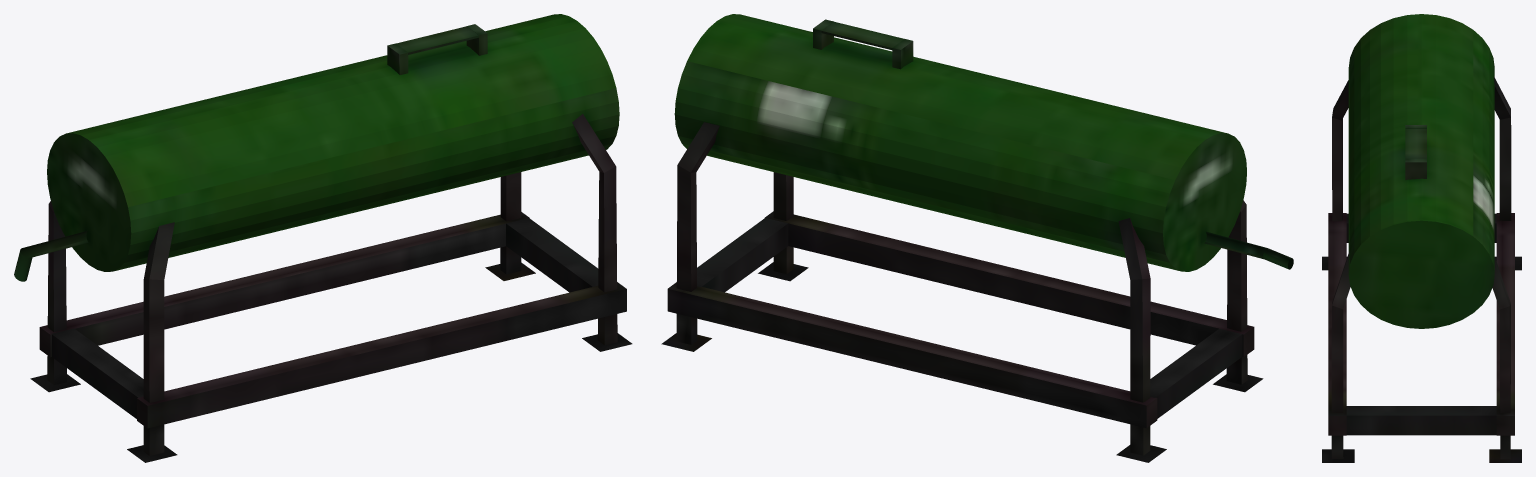
Rendered from biogas processor.fbx.
The picture shows the model from 3 angles, left to right: view 1: azimuth 30°, elevation 25°; view 2: azimuth 150°, elevation 25°; view 3: azimuth 270°, elevation 25°; orthographic projection. The views are drawn at different scales.
Parts seen in each view (by area): view 1: biogas processor; view 2: biogas processor; view 3: biogas processor.
Boxes of the visible parts, box(x1,y1,x2,y2) form: biogas processor: box(14, 14, 632, 462); biogas processor: box(661, 14, 1293, 462); biogas processor: box(1322, 14, 1521, 462).
Size of the model in its own units: 955 by 479 by 335.
